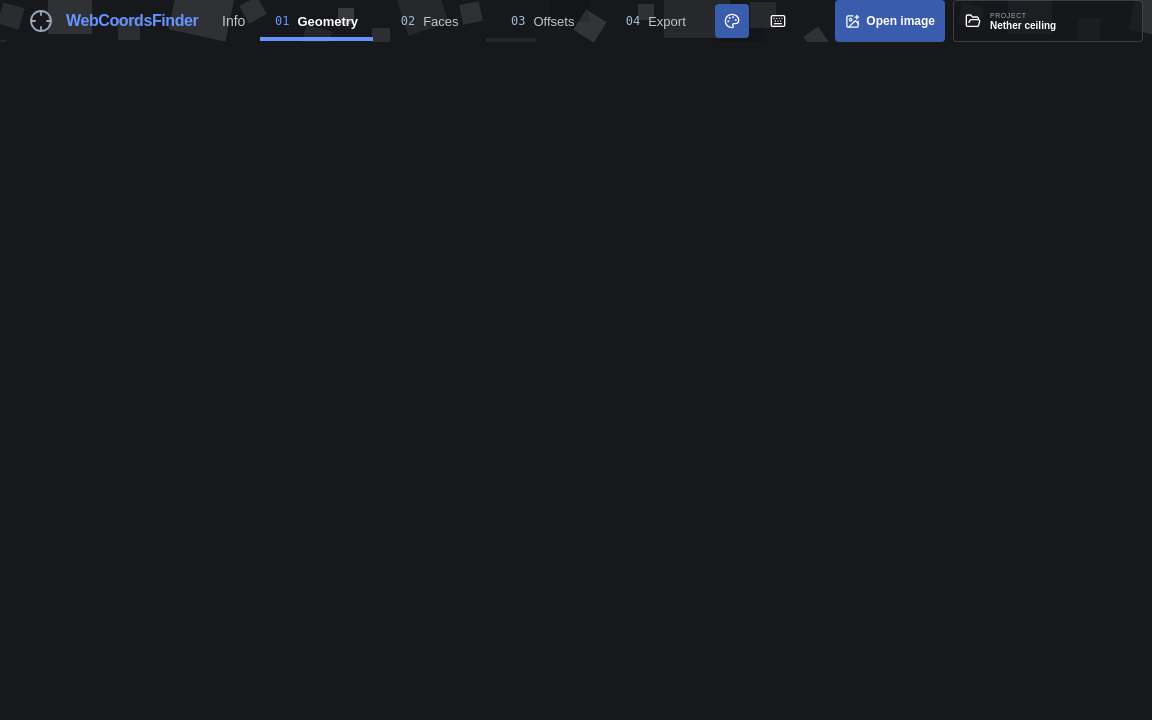
top bar project actions › opens a read-only keybindings popup
The image size is (1152, 720).
Click the button named "Keybindings": (778, 21) left=761, top=4, right=795, bottom=38
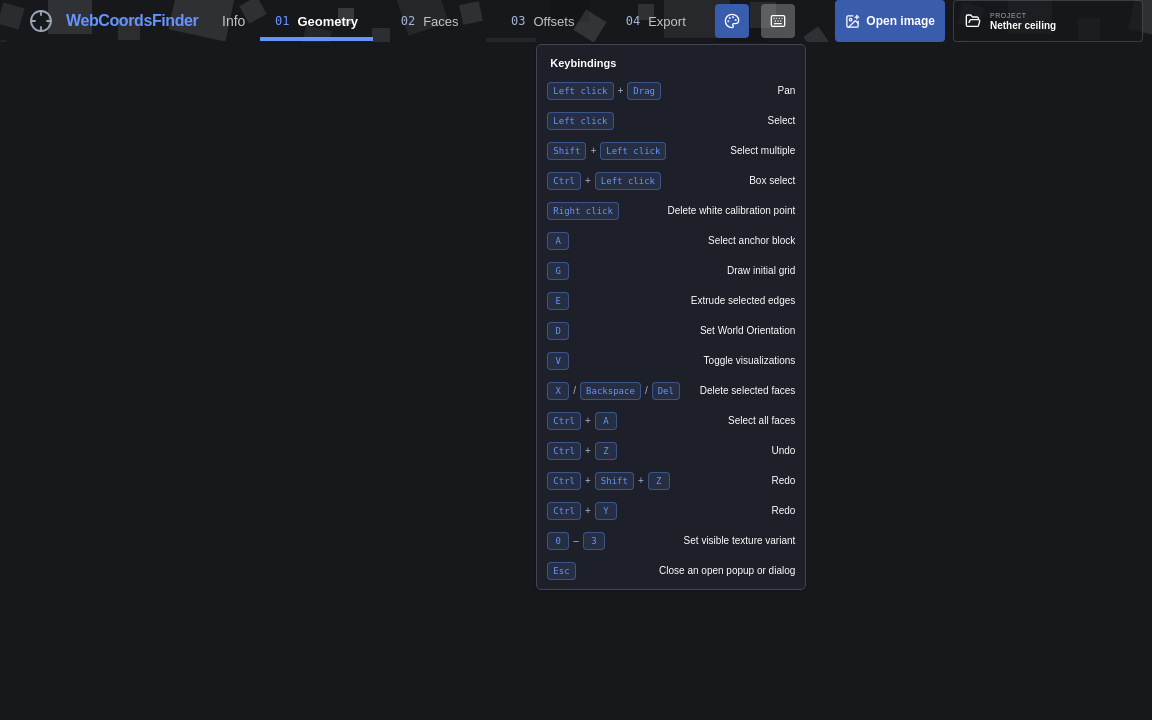
Now the dialog "Keybindings" is shown, box left=536, top=44, right=806, bottom=590
Now the text "Delete selected faces" is shown, box left=690, top=385, right=795, bottom=396
Now the text "Delete white calibration point" is shown, box left=658, top=205, right=795, bottom=216
